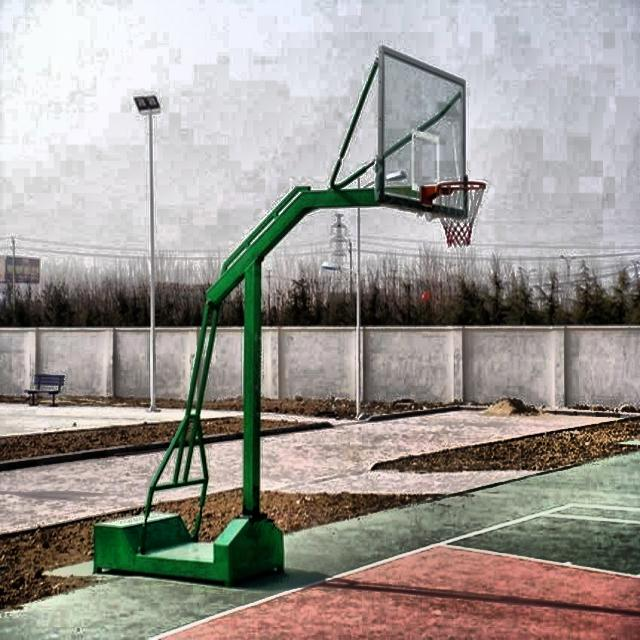rim: (436, 181, 486, 246)
